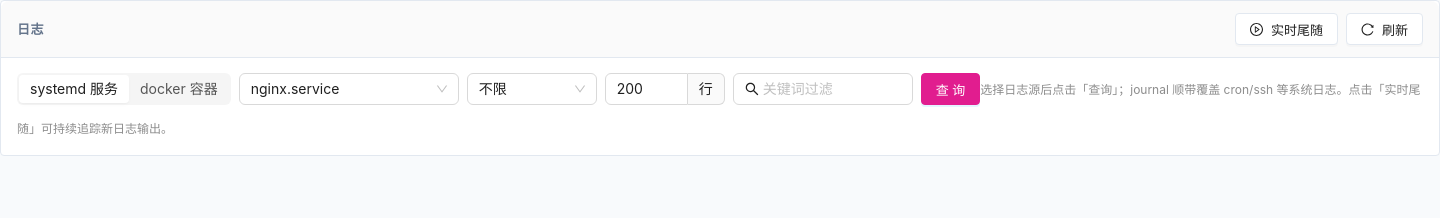
LogsPanel › 点「停止尾随」abort 流；尾随中查询按钮禁用
The width and height of the screenshot is (1440, 218).
Expected: the text "nginx.service" is shown, [251,80,340,97]
Click the button "实时尾随" at (1286, 29), box [1235,13,1338,45]
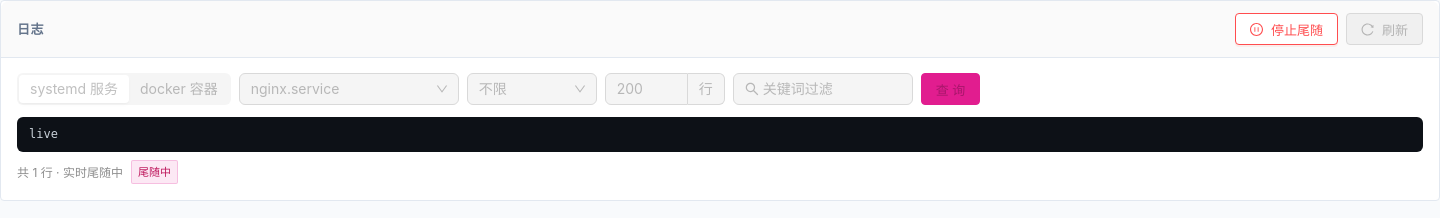
Result: the text "live" is shown at [29,127,58,141]
Result: the button "查 询" is disabled at [921,73,980,105]
Click the button "停止尾随" at (1286, 29), box [1235,13,1338,45]
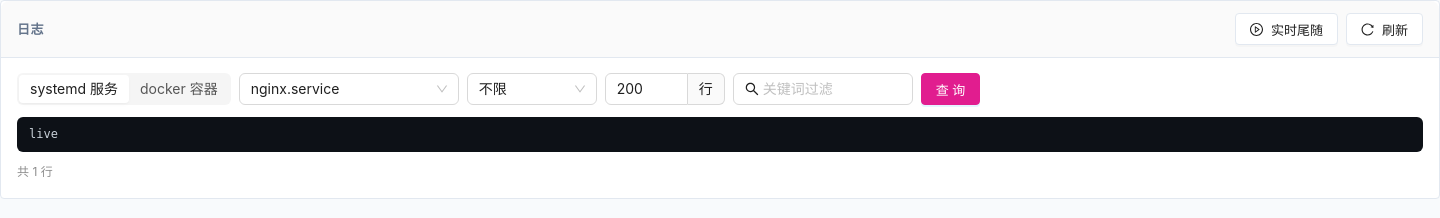
Result: the button "查 询" is enabled at [921,73,980,105]
